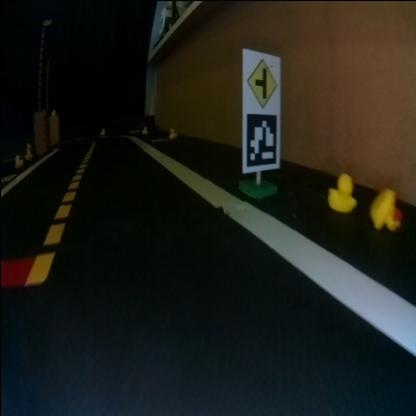Duckie: (370, 189, 399, 229), (328, 173, 354, 207), (12, 154, 22, 166), (22, 148, 30, 156), (168, 127, 175, 136), (140, 124, 146, 132), (24, 140, 30, 148), (48, 107, 54, 115), (99, 126, 104, 134)
Intersection sign: (242, 51, 278, 107)
QR code: (242, 112, 276, 166)
